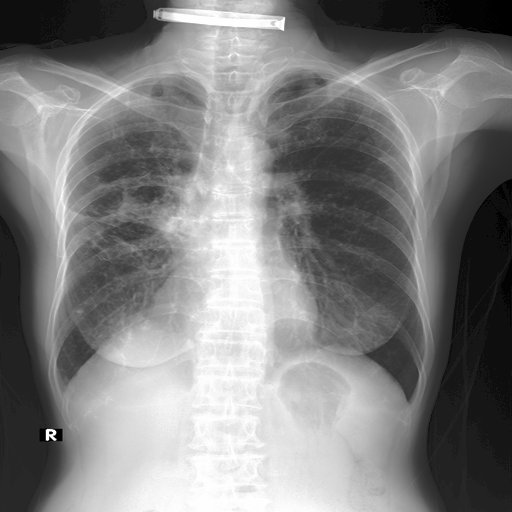Calcification: (269, 68, 320, 88), (128, 70, 195, 82)
Cardiomegaly: (63, 78, 190, 360), (290, 86, 399, 236), (60, 167, 153, 277), (109, 96, 181, 168)
Pneumothorax: (63, 78, 190, 360), (70, 173, 148, 265)
